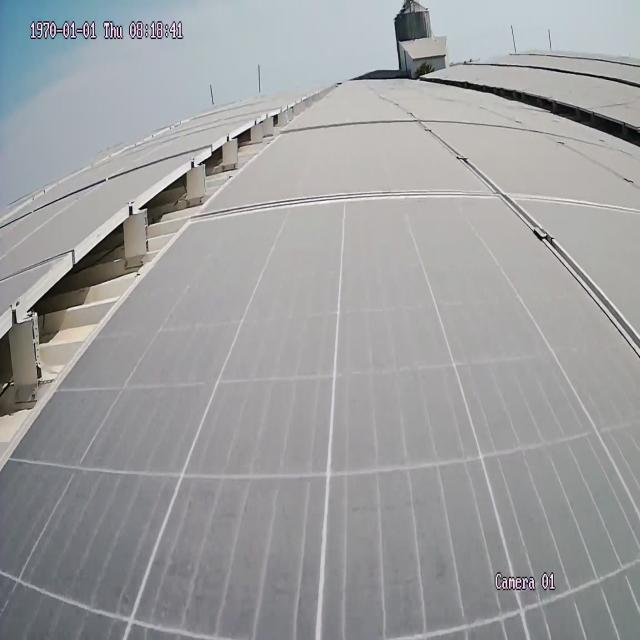interior panel: (424, 119, 638, 361)
outher panel: (0, 91, 318, 470), (479, 86, 640, 148)
